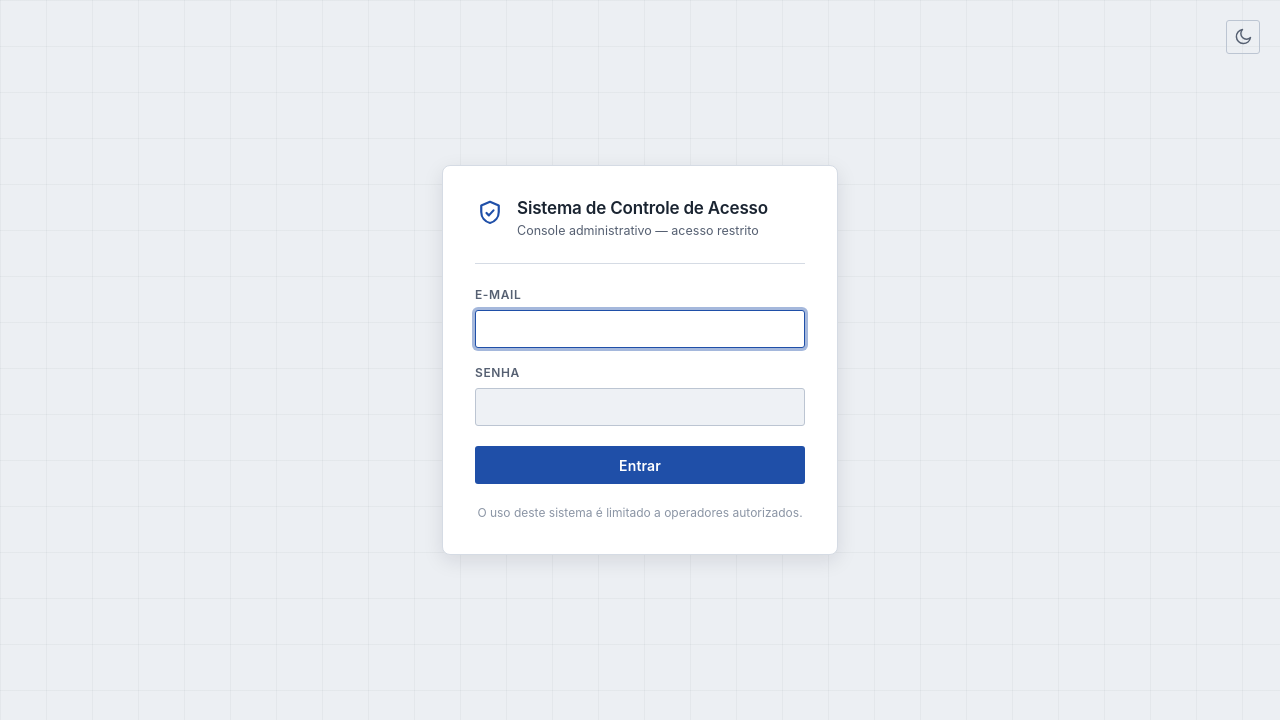
Test case: LoginPage › mostra a message e as notifications quando a api devolve 401
Type "ana@example.test" into the field labelled "E-mail" at (640, 329), box x1=475 y1=310 x2=805 y2=348
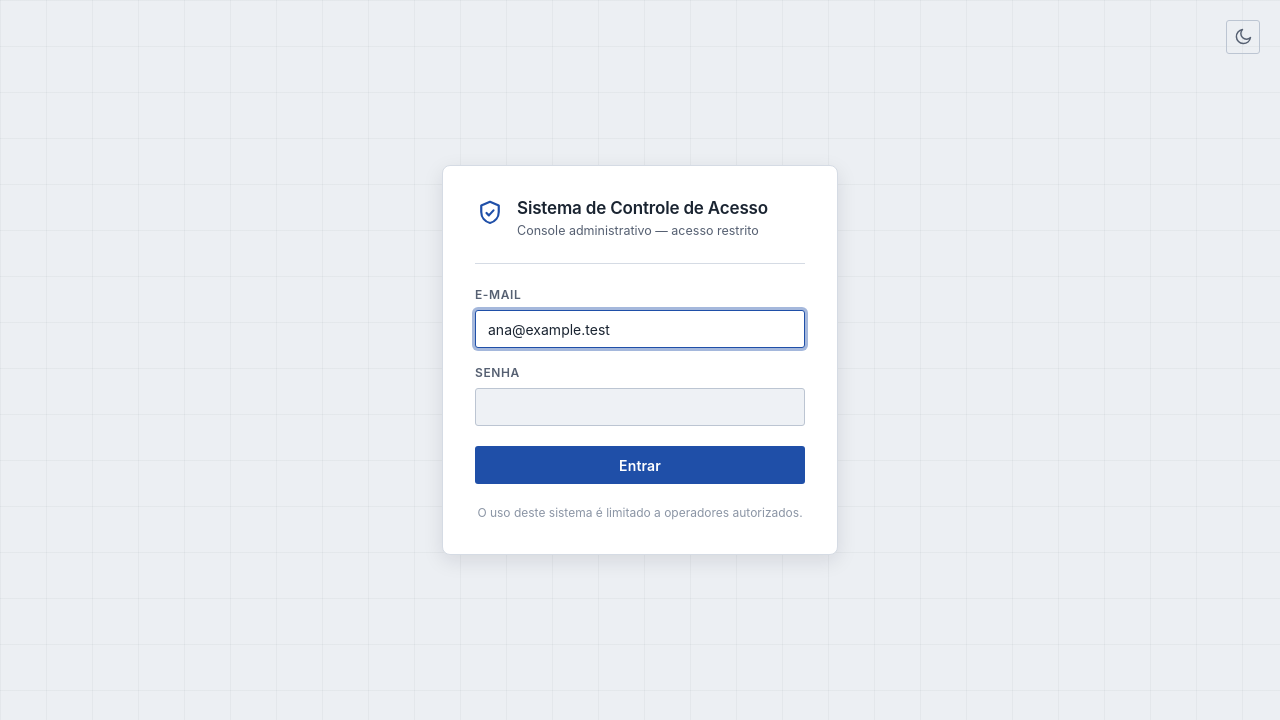
Type "senha-secreta" into the password field labelled "Senha" at (640, 407), box x1=475 y1=388 x2=805 y2=426
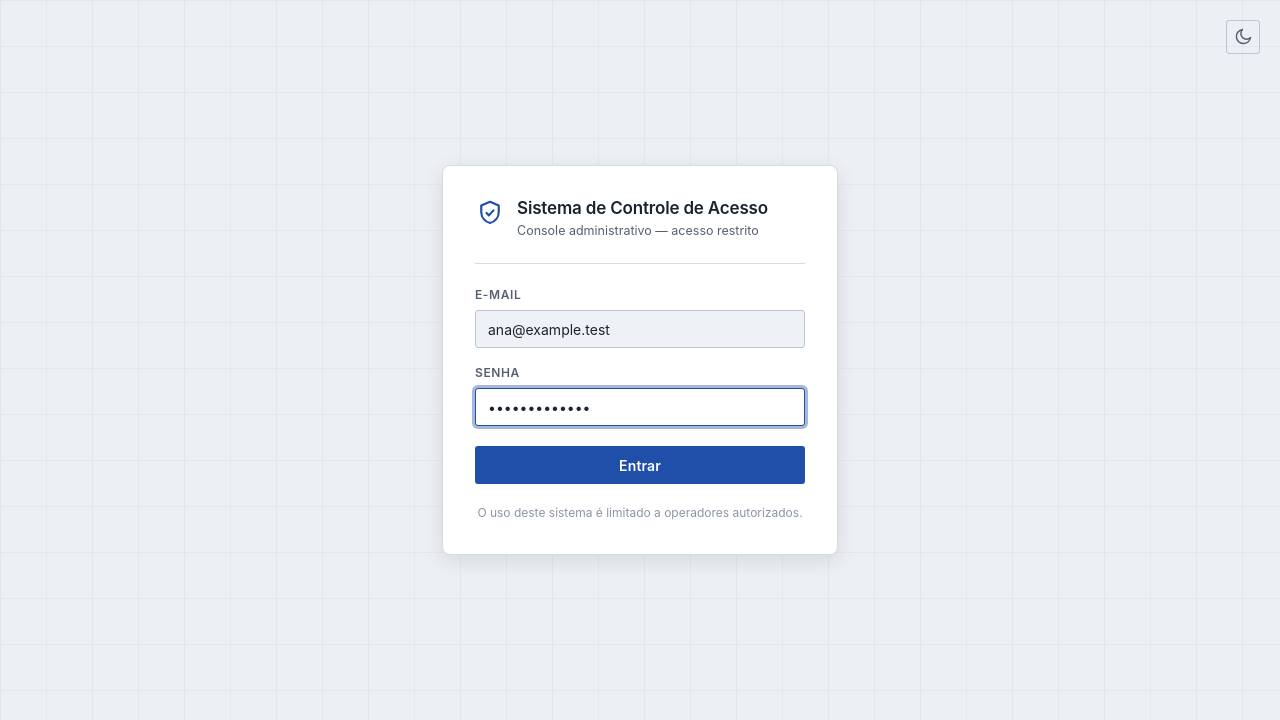
Click the button "Entrar" at (640, 465), box x1=475 y1=446 x2=805 y2=484
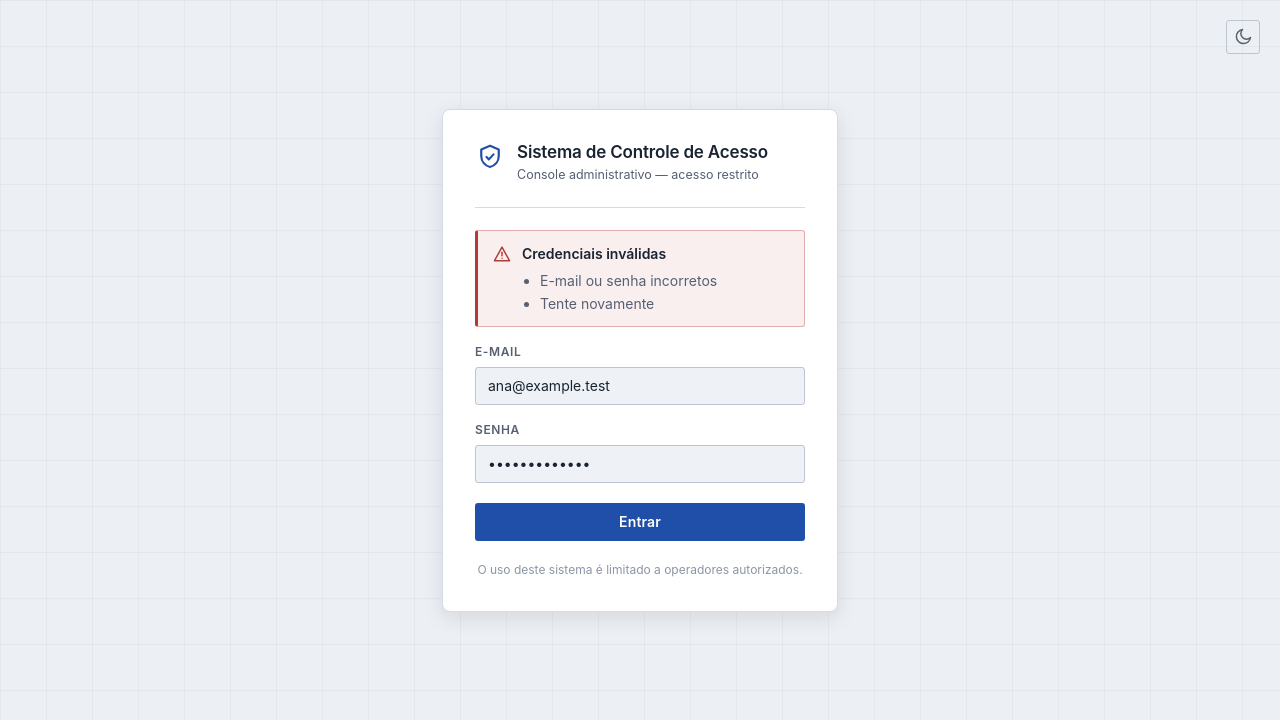
Expected: the message shows "Credenciais inválidas", x1=522 y1=244 x2=666 y2=262
Expected: the message shows "E-mail ou senha incorretos", x1=540 y1=272 x2=717 y2=288
Expected: the message shows "Tente novamente", x1=540 y1=294 x2=654 y2=312
